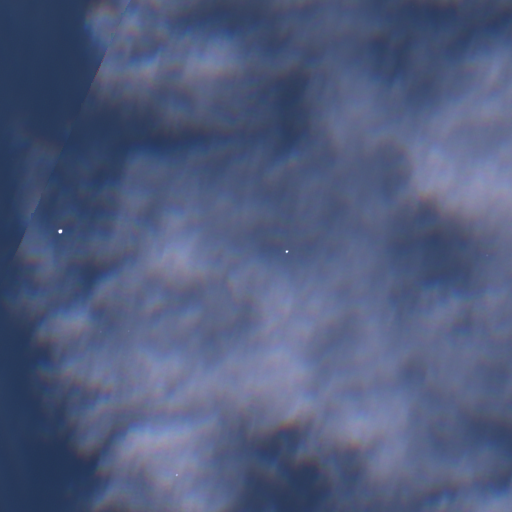Iceberg: (58, 229, 62, 233), (285, 250, 288, 252), (176, 474, 177, 475)
